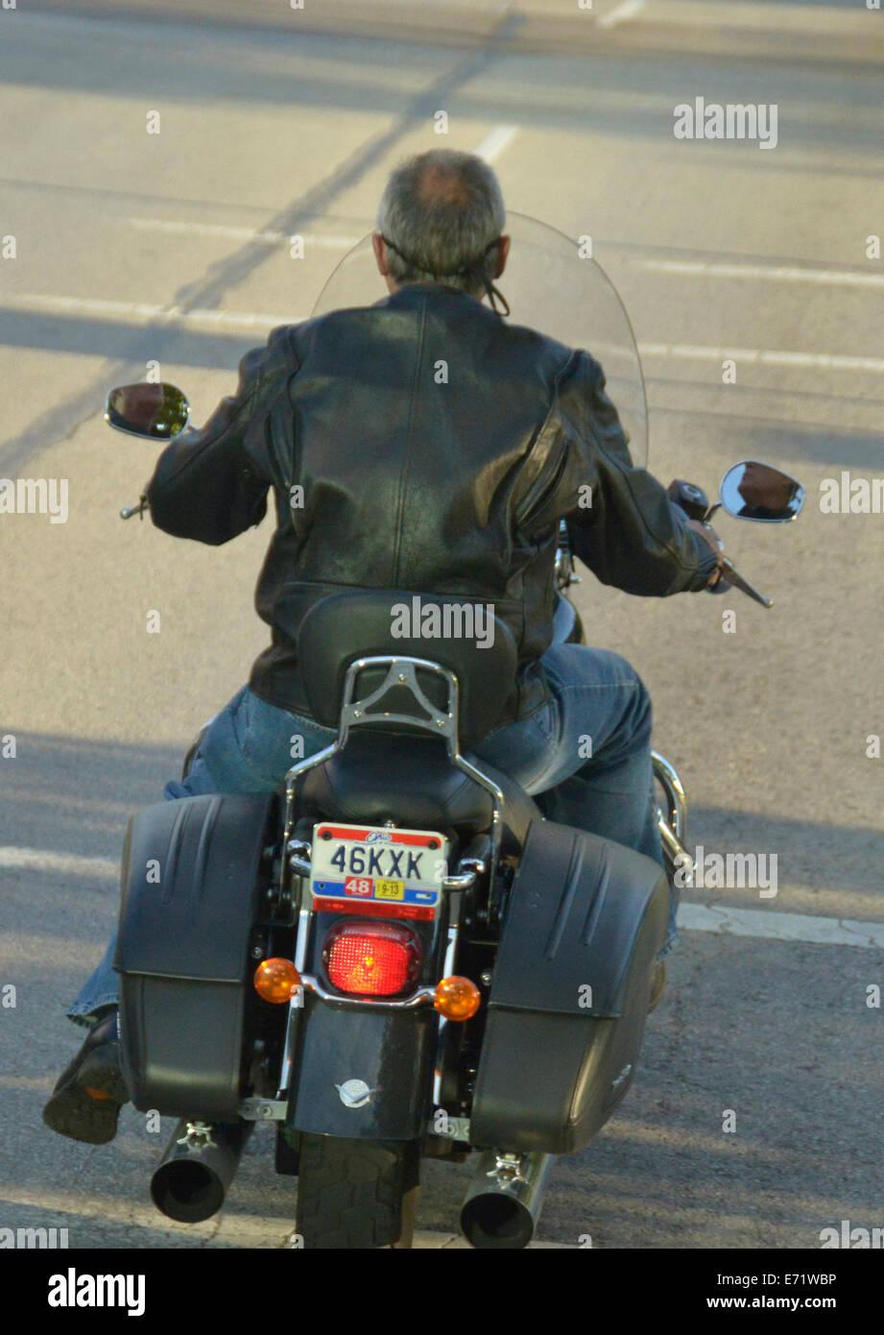nohelmet: (368, 142, 515, 330)
